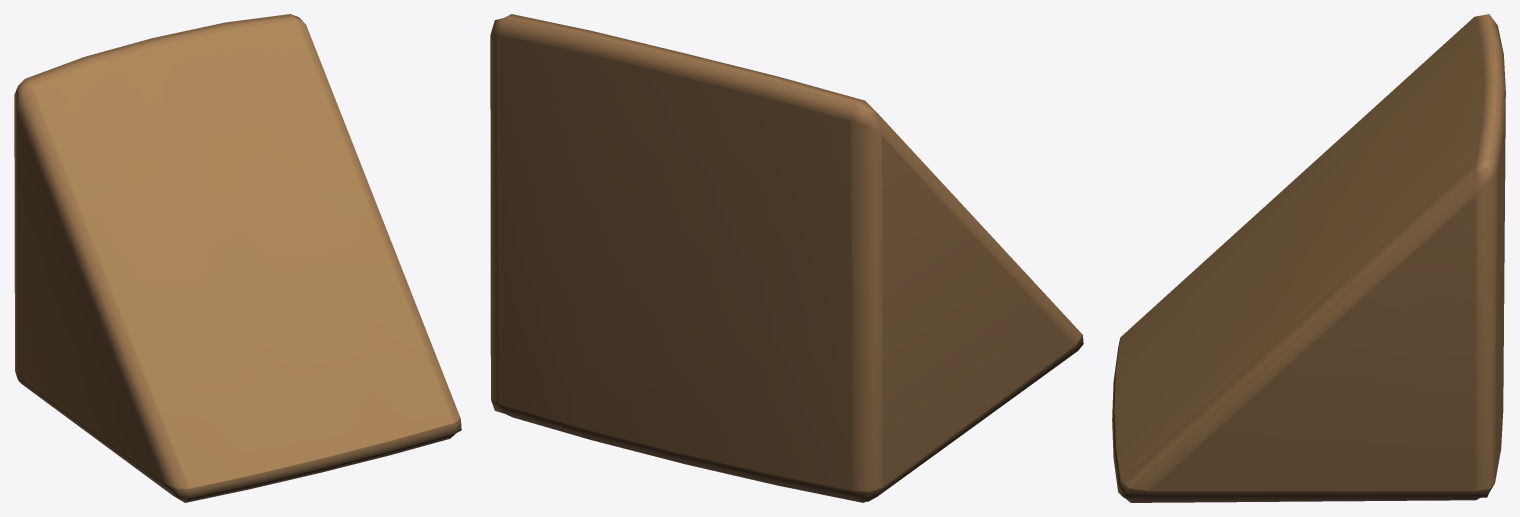
The model's file is Sandstone_Slope_Straight.fbx.
3 renders of one model, left to right at view 1: azimuth 30°, elevation 25°; view 2: azimuth 150°, elevation 25°; view 3: azimuth 270°, elevation 25°, orthographic. The views are drawn at different scales.
Parts seen in each view (by area): view 1: Sandstone_Slope_Straight_LOD0; view 2: Sandstone_Slope_Straight_LOD0; view 3: Sandstone_Slope_Straight_LOD0.
Boxes of the visible parts, <box> form: Sandstone_Slope_Straight_LOD0: <box>14,14,461,502</box>; Sandstone_Slope_Straight_LOD0: <box>490,14,1083,502</box>; Sandstone_Slope_Straight_LOD0: <box>1112,14,1505,502</box>.
Size of what is drawn, in the model's own units: 1.04 by 1.06 by 1.08.
